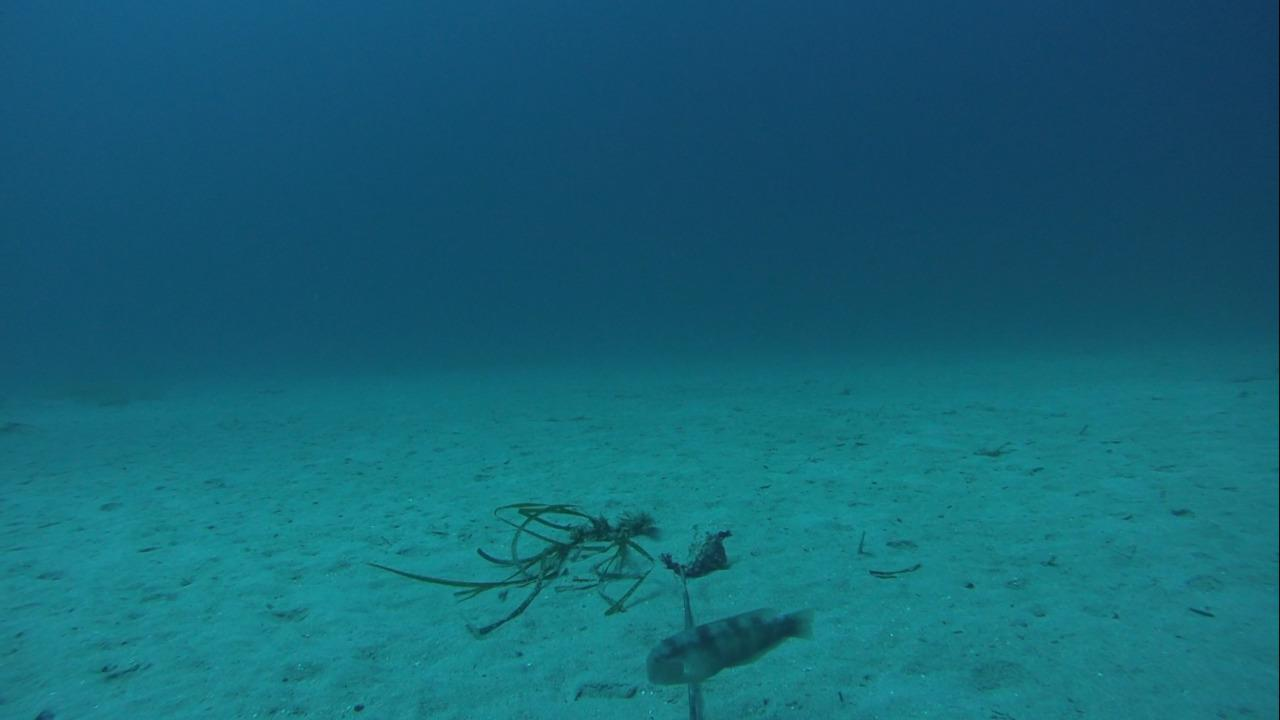raor: (643, 601, 816, 689)
